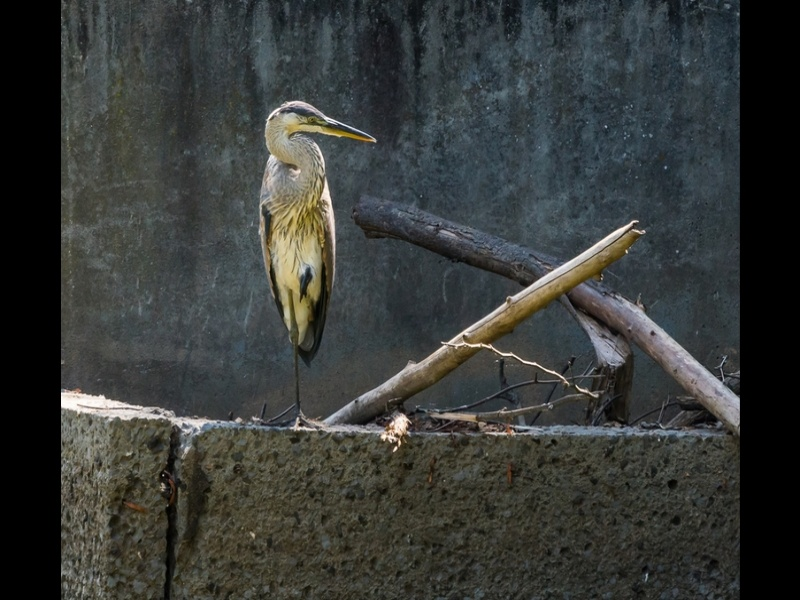heron: (255, 97, 379, 432)
